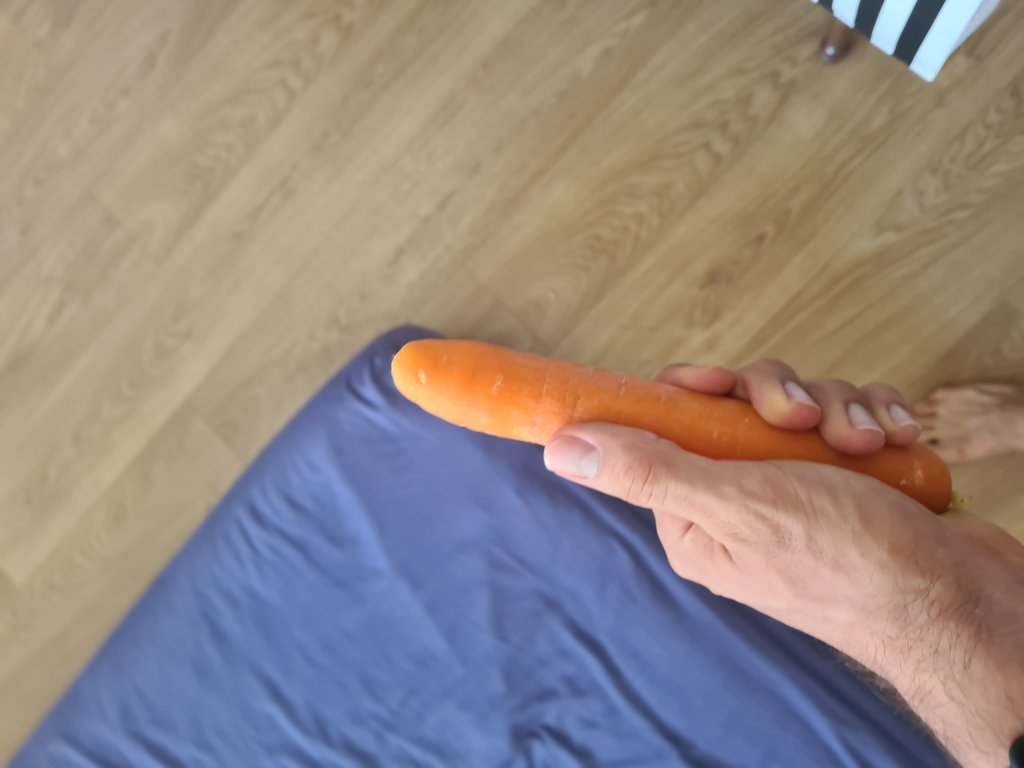carrot: (386, 332, 959, 522)
